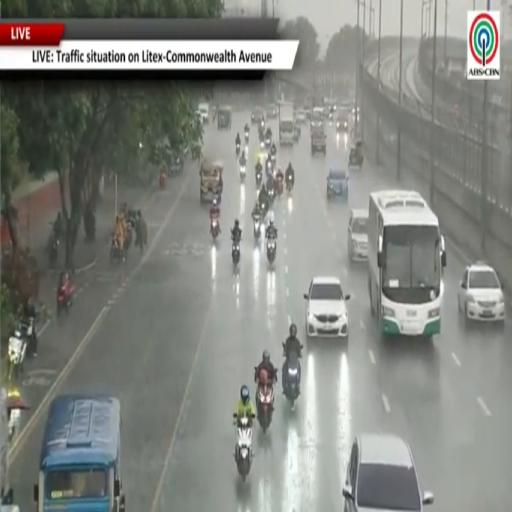bus: (368, 190, 446, 338), (35, 395, 125, 511)
car: (343, 434, 433, 511), (304, 277, 350, 341), (459, 262, 505, 322), (348, 210, 368, 262), (327, 167, 348, 200), (311, 127, 326, 155), (217, 106, 232, 130), (310, 107, 324, 131), (196, 102, 210, 124), (336, 110, 348, 132), (251, 107, 264, 123), (295, 109, 306, 124), (267, 104, 278, 119)
motorcycle: (233, 413, 254, 482), (282, 352, 300, 408), (8, 331, 28, 381), (257, 378, 273, 433), (19, 317, 37, 353), (57, 280, 74, 314), (48, 234, 60, 268), (110, 235, 124, 262), (124, 218, 134, 253), (267, 238, 276, 264), (210, 218, 220, 239), (232, 240, 240, 265), (254, 216, 261, 239), (159, 172, 167, 188), (268, 186, 275, 203), (276, 178, 282, 197), (286, 175, 293, 191), (266, 160, 273, 175), (240, 165, 246, 182), (256, 171, 262, 187), (265, 137, 271, 149), (271, 153, 276, 167), (245, 132, 249, 145), (236, 143, 240, 156), (260, 140, 265, 149)
truck: (0, 388, 29, 511), (279, 102, 294, 146)
